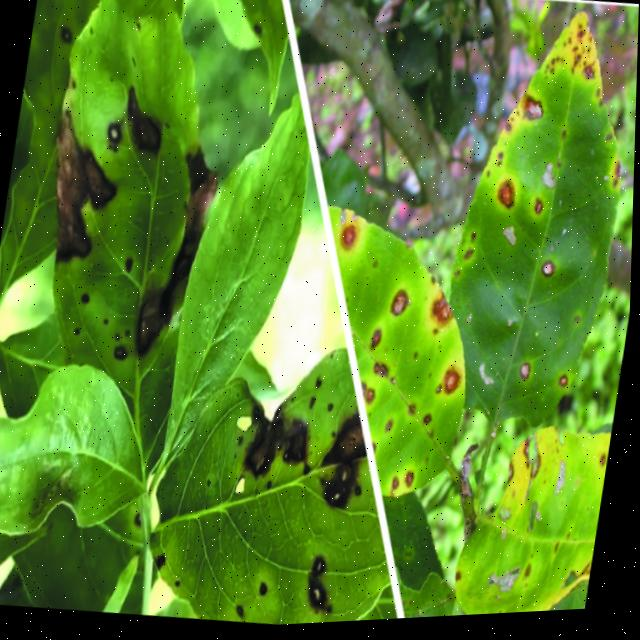Anthracnose: (470, 121, 599, 370), (359, 267, 466, 427), (526, 0, 620, 111)
